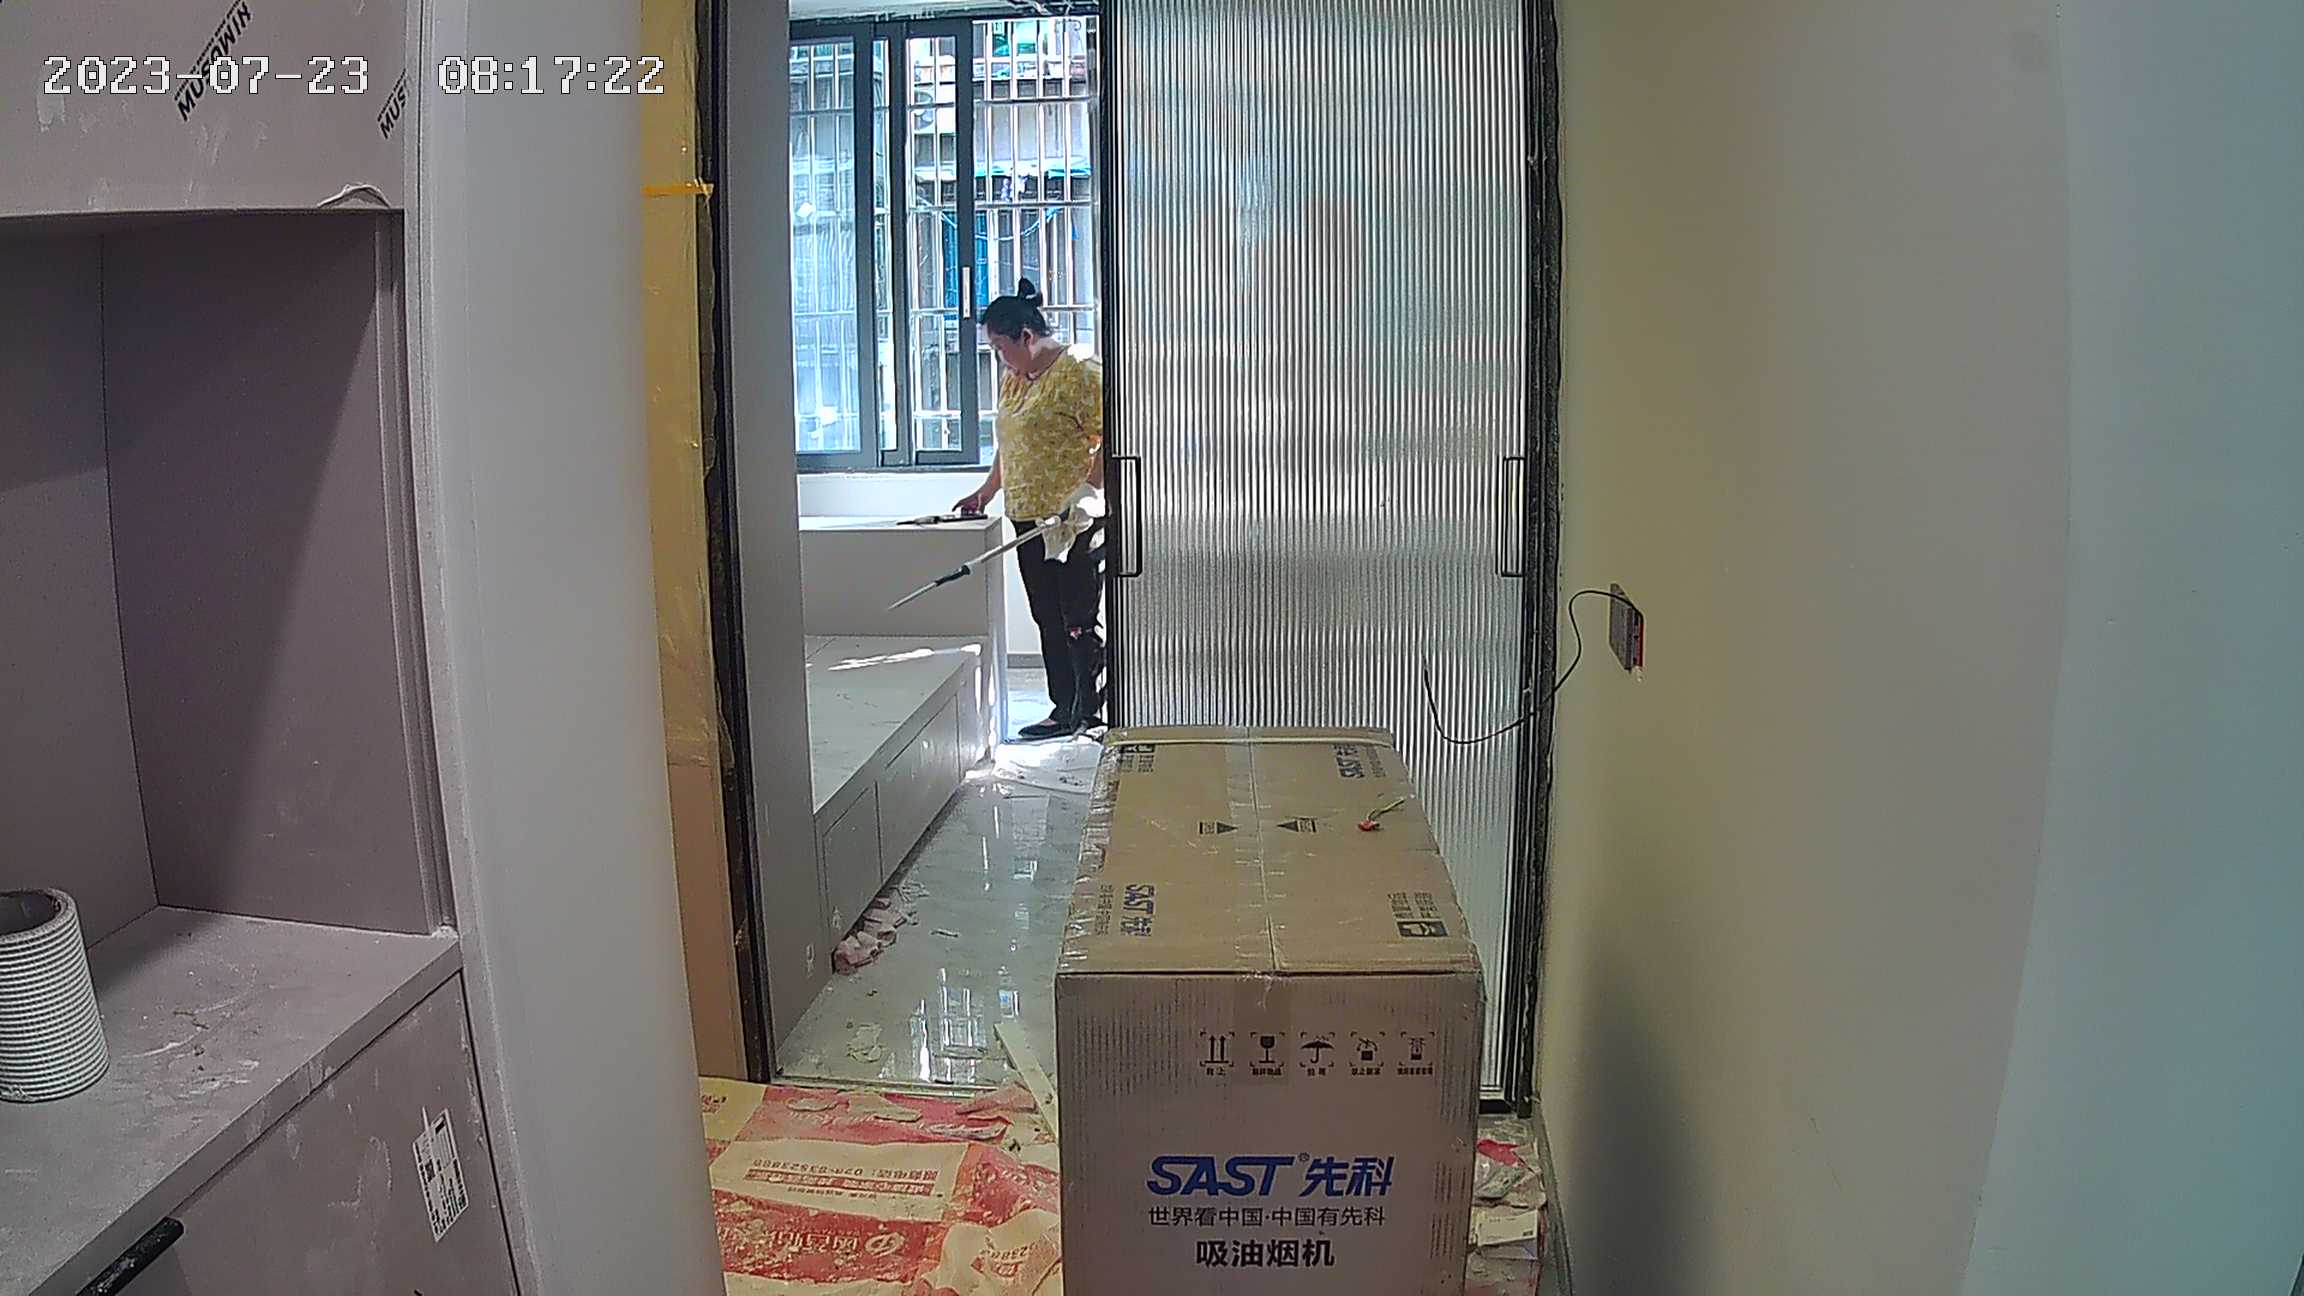people: (942, 291, 1124, 741)
window: (792, 33, 1109, 451)
